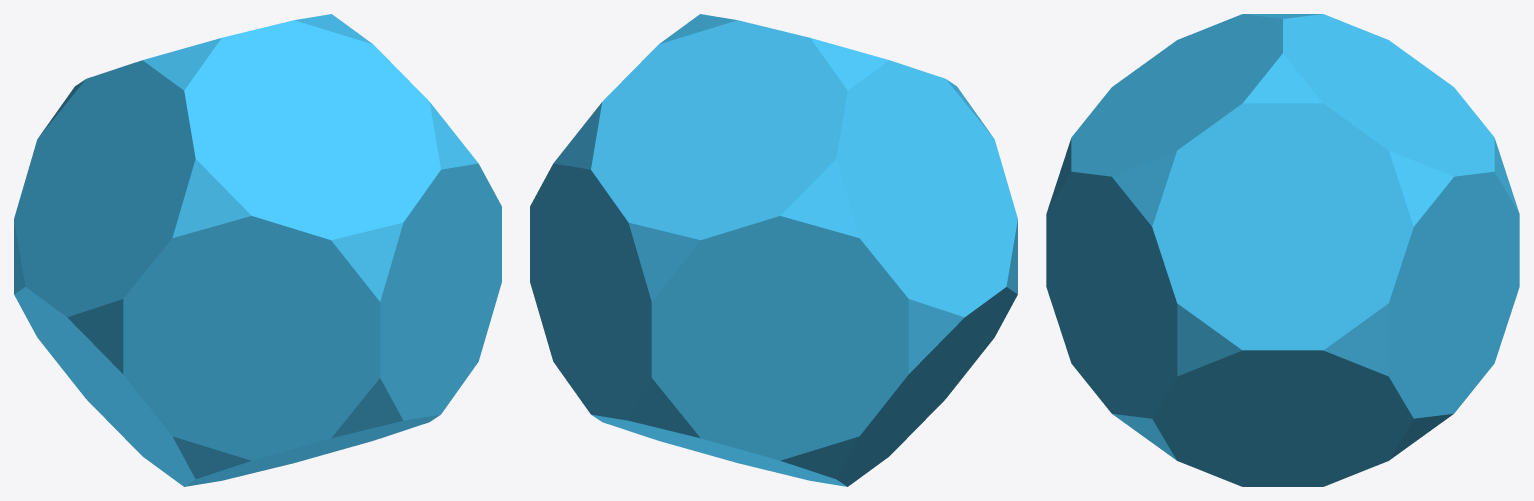
File: fractaltruncateddodecahedron0.glb
The picture shows the model from 3 angles, left to right: view 1: azimuth 30°, elevation 25°; view 2: azimuth 150°, elevation 25°; view 3: azimuth 270°, elevation 25°; orthographic projection. The views are drawn at different scales.
Bounding box in the file's own units: 12.27 × 12.27 × 12.27.
